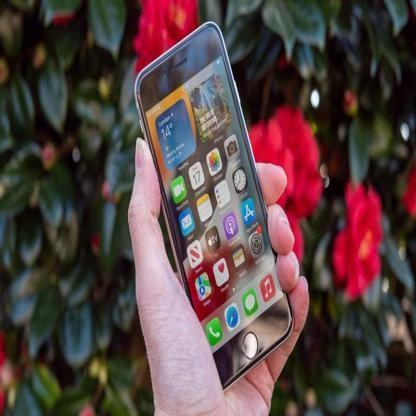not trash: (131, 21, 294, 396)
